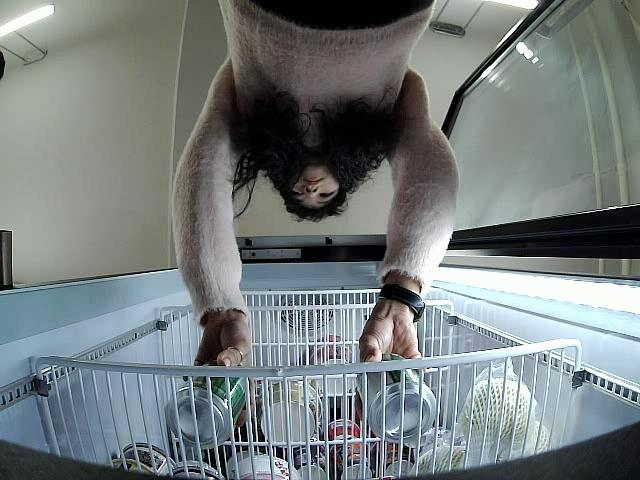00_hand: (187, 323, 255, 430), (357, 306, 425, 379)
12_chilsungCider: (164, 357, 250, 451), (356, 349, 435, 443)
